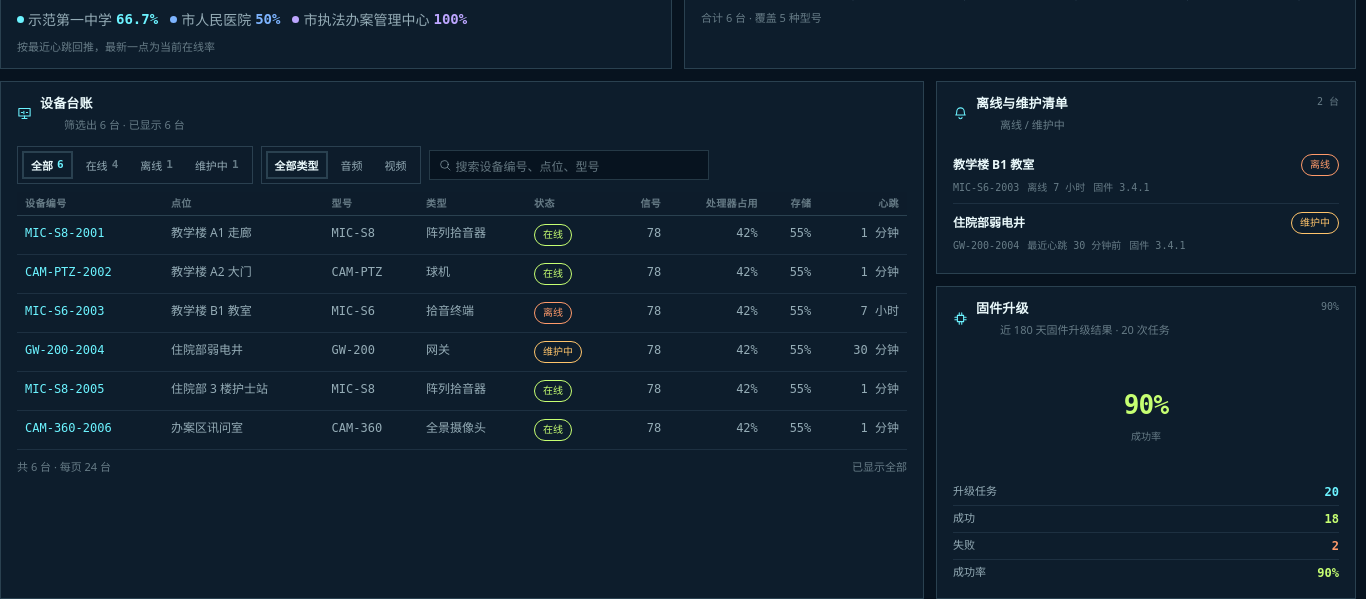
/device 抽屉：信号强度曲线（Stage 1 回归点） › 点开在线设备后，抽屉里的信号曲线容器高度取自 sm 档且仍在文档中
(page scrolled)
Click the row "MIC-S8-2001 教学楼 A1 走廊 MIC-S8 阵列拾音器 在线 78 42% 55% 1 分钟".
click(462, 235)  # box [17, 215, 907, 254]
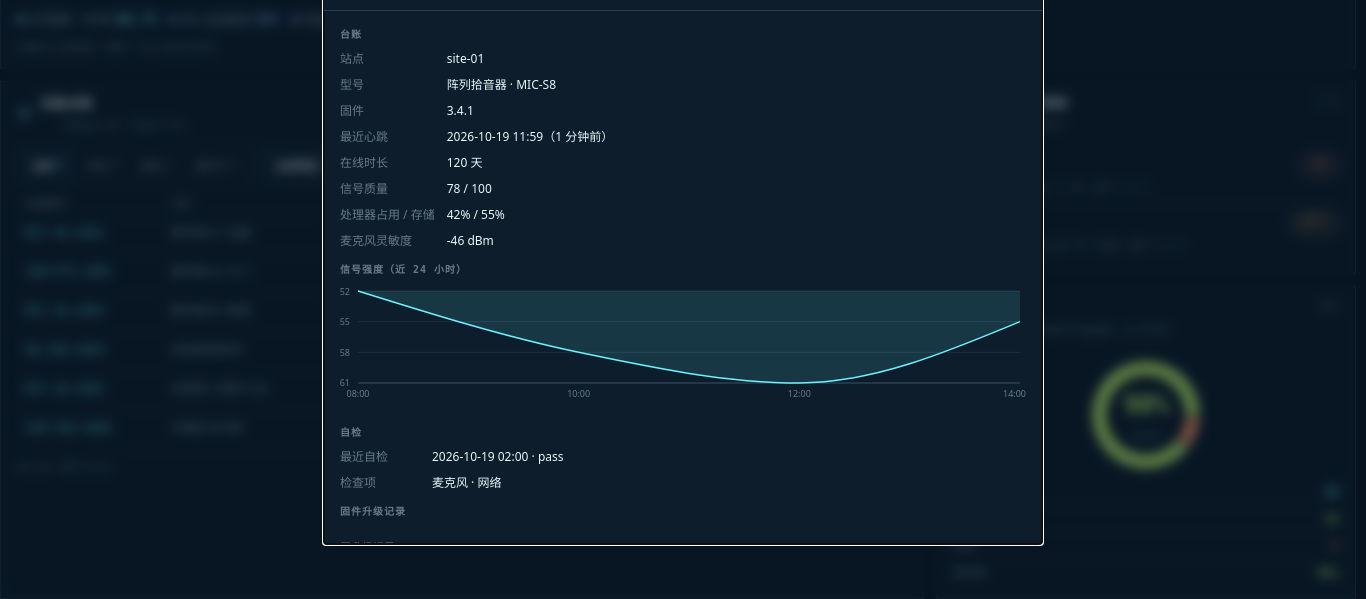
Expected: the picture named "MIC-S8-2001 信号强度曲线" is shown, [340, 285, 1026, 413]
